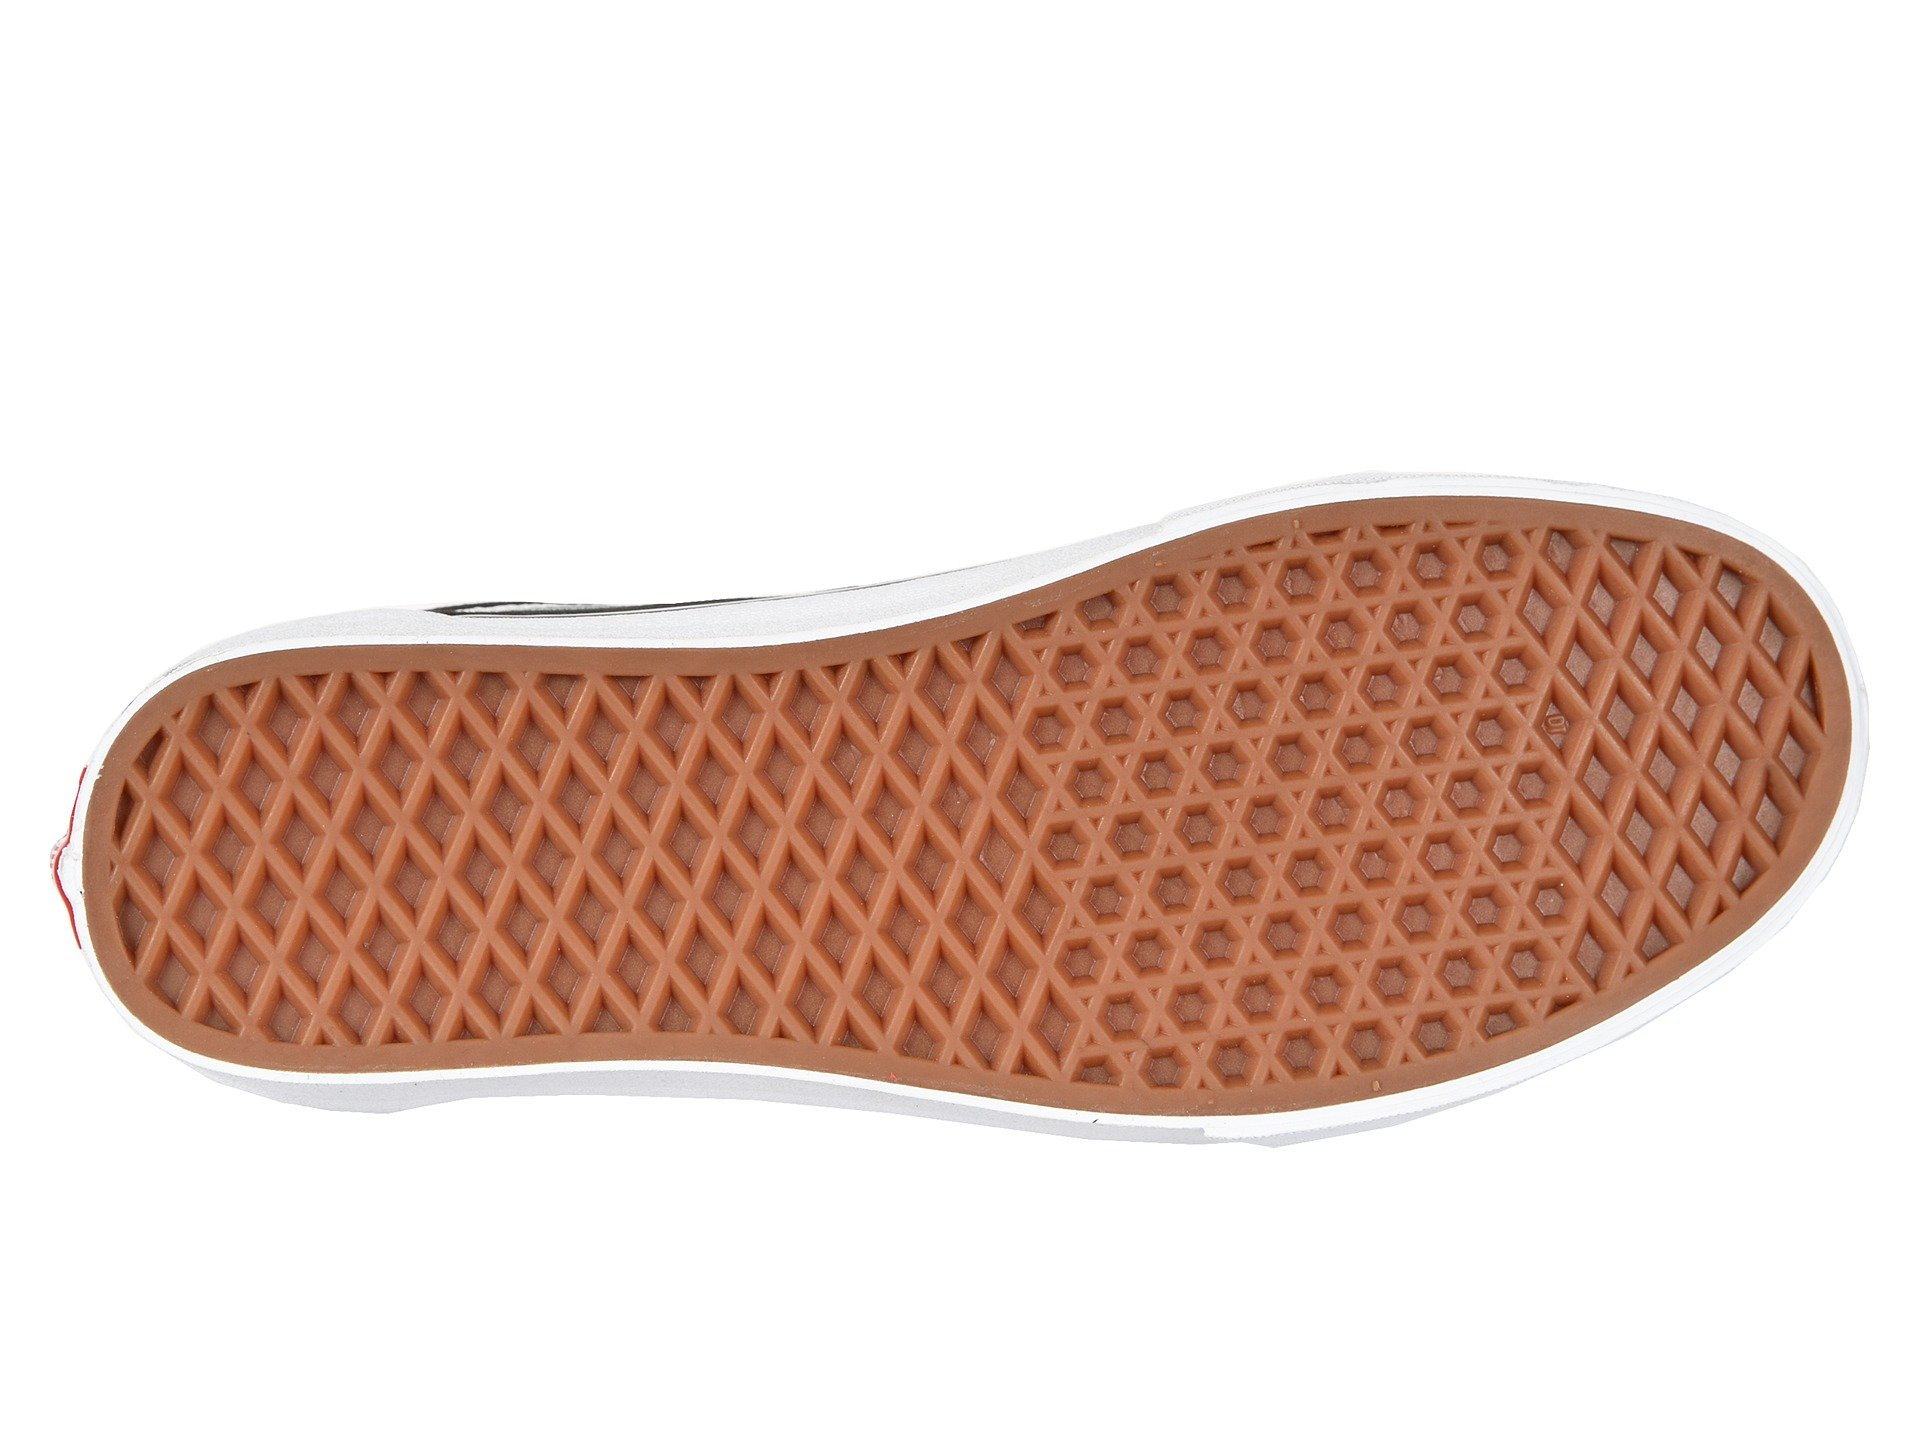polygon: (1185, 107, 1498, 416), (948, 185, 1182, 439), (1238, 425, 1485, 659), (974, 445, 1219, 678)
quad: (408, 265, 736, 573), (100, 321, 399, 605), (1515, 112, 1754, 374), (750, 241, 933, 449), (760, 458, 949, 653), (1551, 383, 1710, 532)
triangle: (1185, 107, 1498, 416), (948, 185, 1182, 439), (1238, 425, 1485, 659), (974, 445, 1219, 678)
